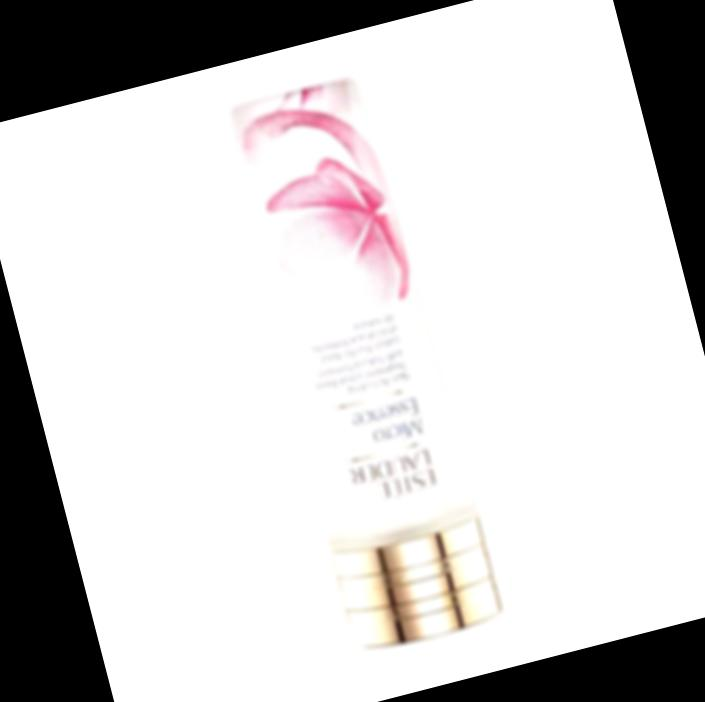cosmetic: (219, 74, 496, 650)
